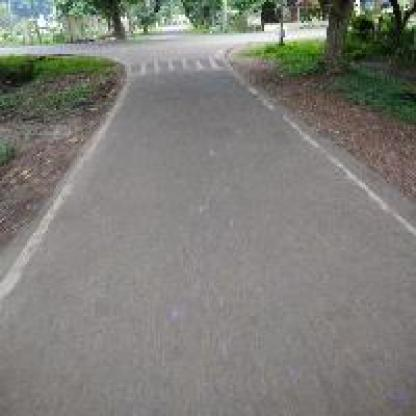Speed Bump: (125, 54, 235, 79)
